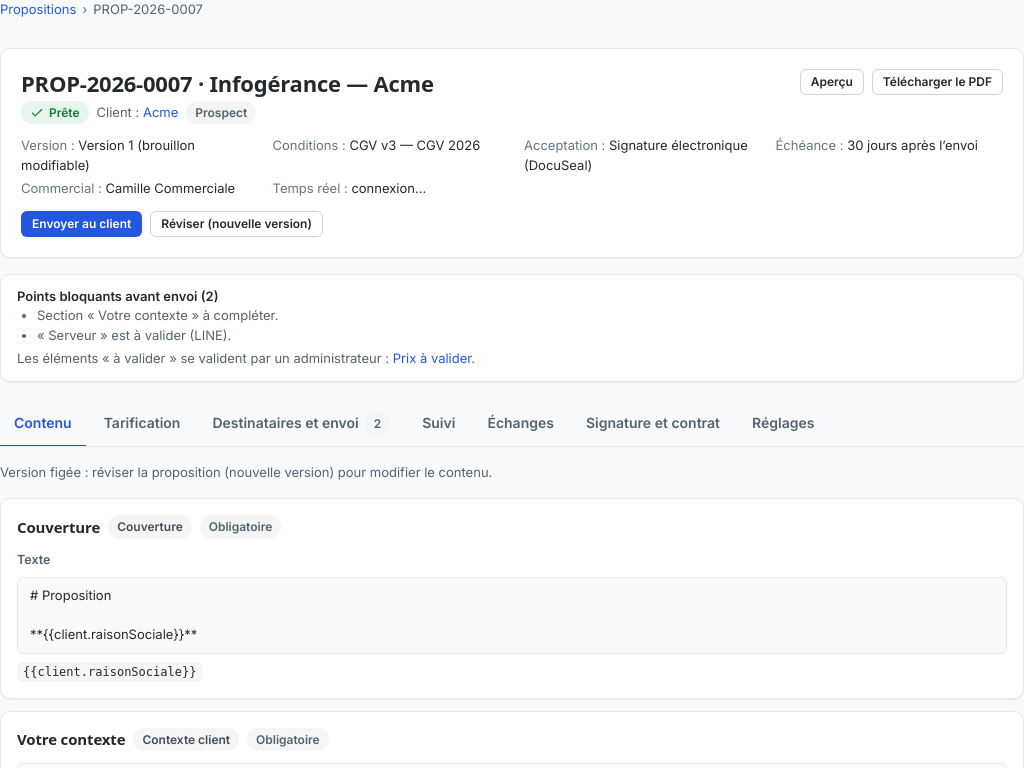
Test case: erreur serveur : le detail est affiché
Click the button "Envoyer au client".
click(82, 224)  # box [21,211,142,237]
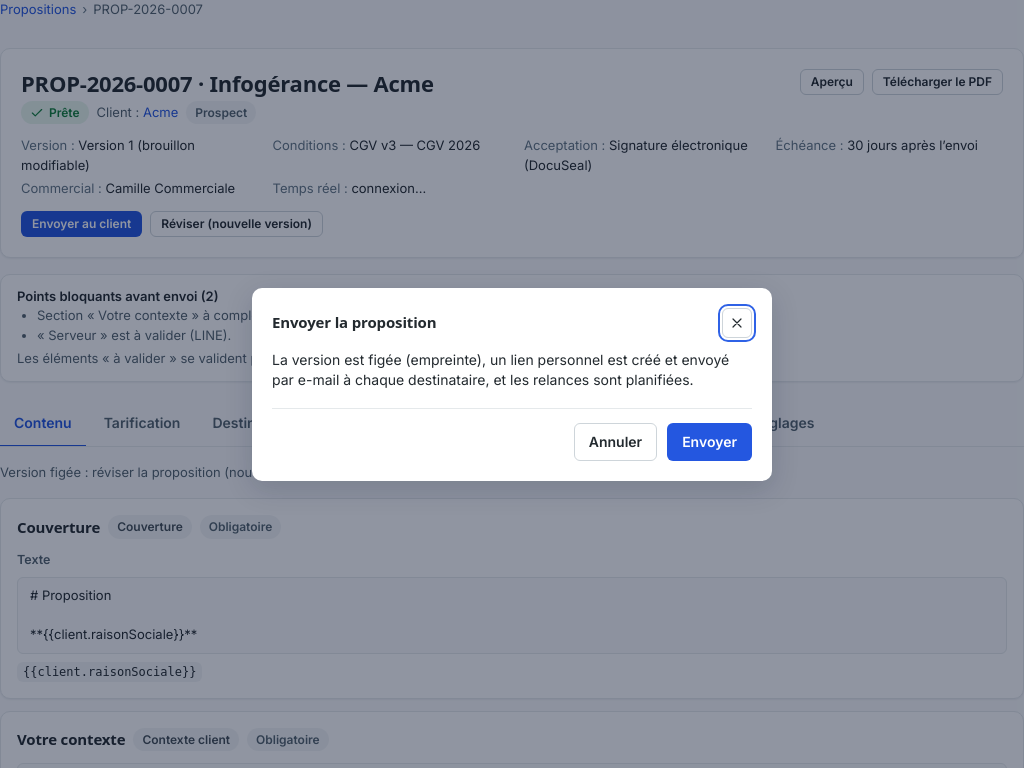
Click the button "Envoyer".
click(710, 442)  # box [667,422,752,460]
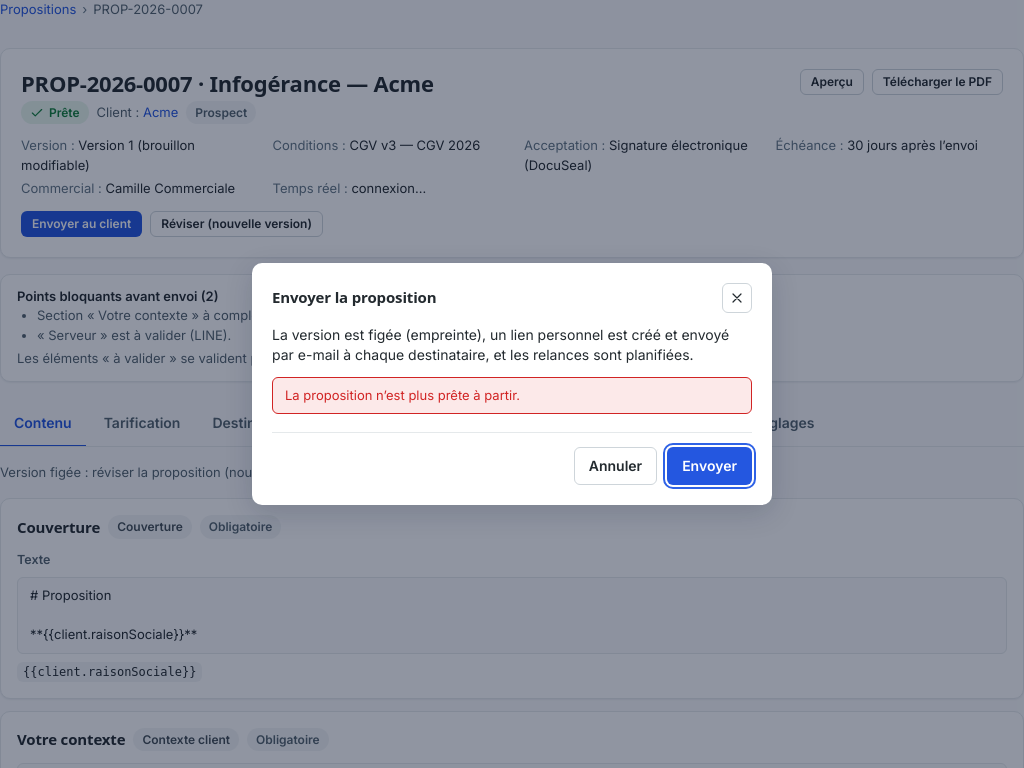
Expected: the message reads "La proposition n’est plus prête à partir.", [285,387,520,403]
